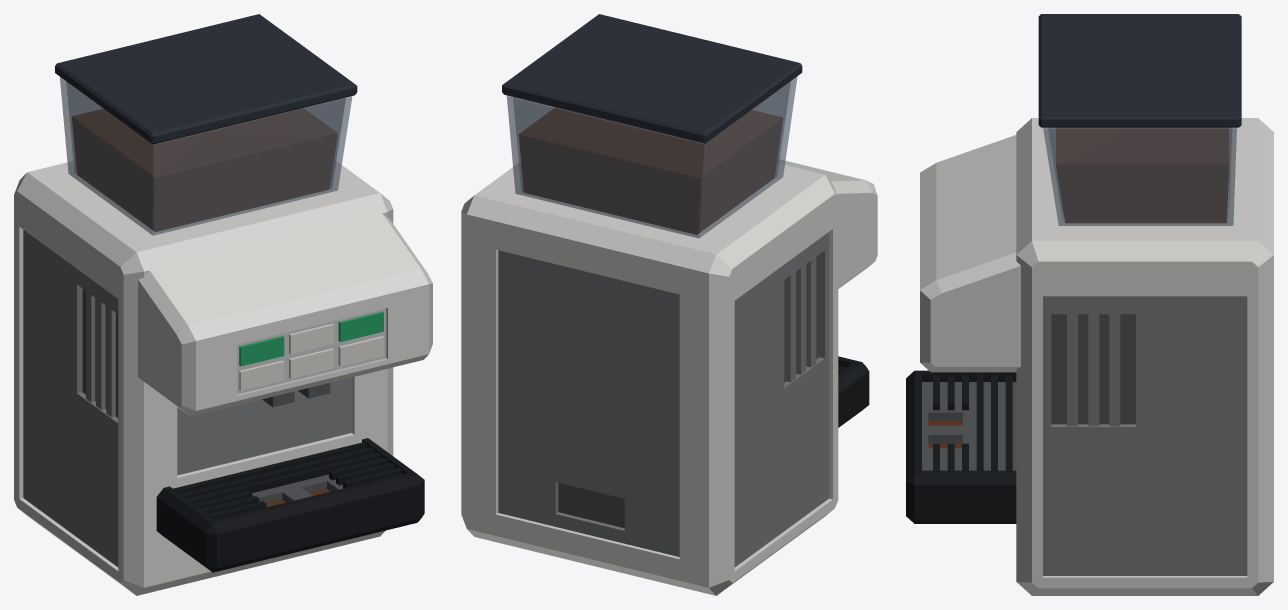
Rendered from office-coffee-machine-9da5e6.glb.
The picture shows the model from 3 angles, left to right: view 1: azimuth 30°, elevation 25°; view 2: azimuth 150°, elevation 25°; view 3: azimuth 270°, elevation 25°; orthographic projection. The views are drawn at different scales.
Parts seen in each view (by area): view 1: object 1, object 2, hopper-lid, drip-tray; view 2: object 1, object 2, hopper-lid, drip-tray; view 3: object 1, hopper-lid, object 2, drip-tray.
Boxes of the visible parts, x1,y1,x2,y2 form: object 1: (14, 108, 432, 595); object 2: (60, 77, 352, 235); hopper-lid: (55, 14, 357, 144); drip-tray: (156, 438, 424, 572); object 1: (461, 107, 877, 595); object 2: (506, 76, 797, 238); hopper-lid: (502, 14, 802, 143); drip-tray: (838, 356, 869, 427); object 1: (920, 118, 1273, 595); hopper-lid: (1038, 14, 1241, 127); object 2: (1043, 127, 1236, 225); drip-tray: (906, 370, 1016, 523).
Bounding box in the file's own units: 0.35 × 0.5636 × 0.4.
